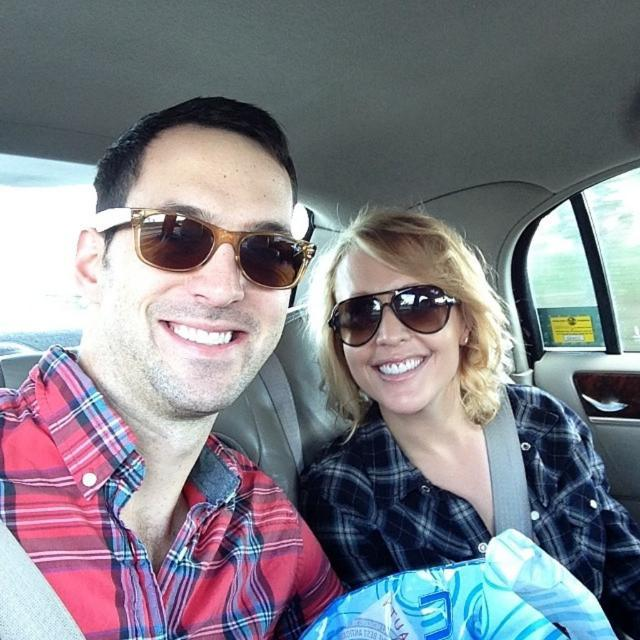Seatbelt: (0, 517, 84, 639)
